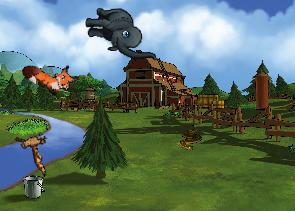eagle: (5, 121, 64, 177)
elephant: (84, 5, 156, 64)
fox: (19, 46, 81, 103)
